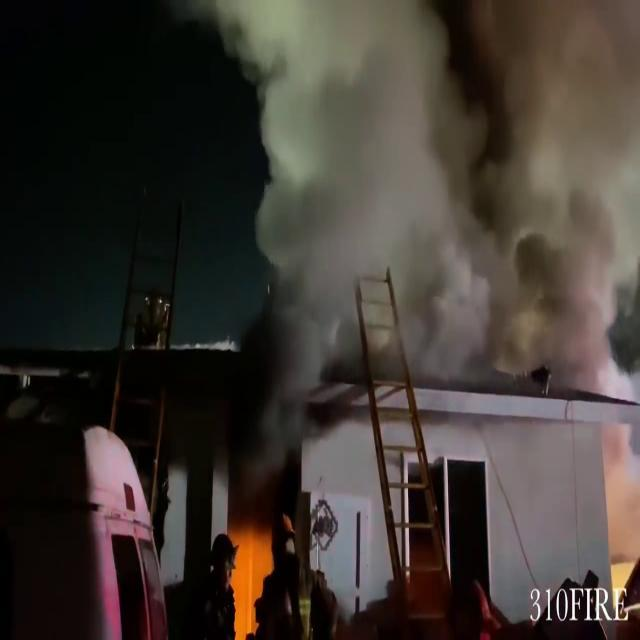Smoke: (208, 1, 640, 403)
